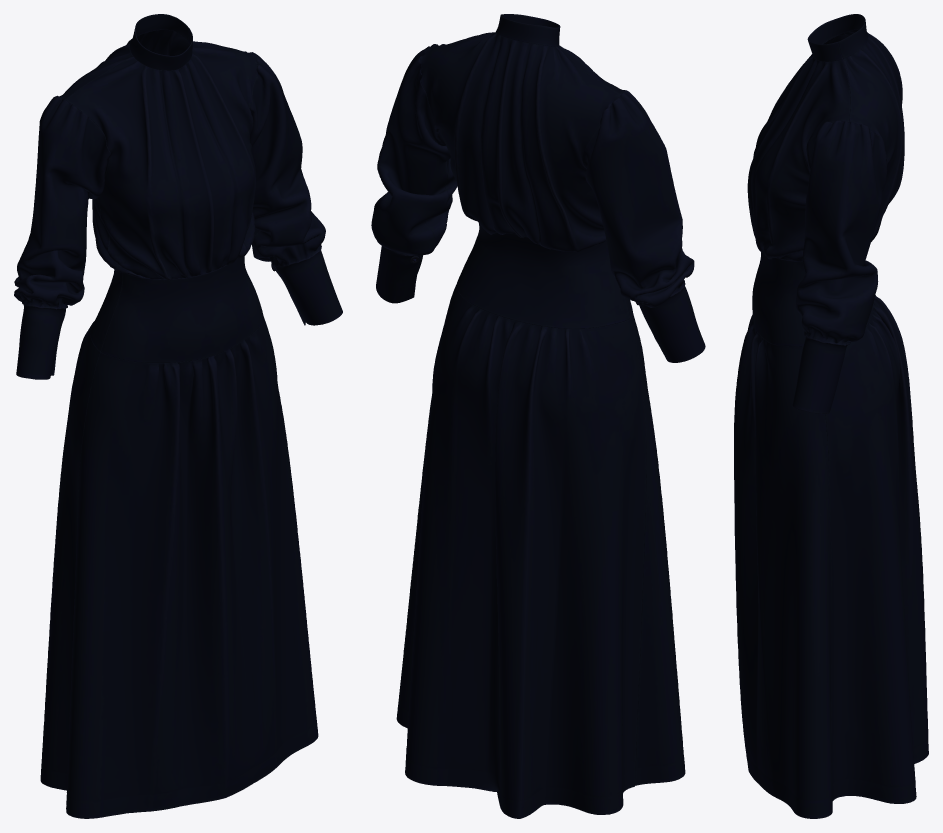
File: dress.glb
The picture shows the model from 3 angles, left to right: view 1: azimuth 30°, elevation 25°; view 2: azimuth 150°, elevation 25°; view 3: azimuth 270°, elevation 25°; orthographic projection. The views are drawn at different scales.
Parts seen in each view (by area): view 1: BTM_001_front, FO_001, AC_001_Belt, SL_001_Right, BTM_001_Back, SL_001_Left, AC_001_Cuff_Left, AC_001_Cuff_Right, BO_001, AC_001_Collar; view 2: BTM_001_Back, BO_001, SL_001_Right, BTM_001_front, AC_001_Belt, SL_001_Left, AC_001_Cuff_Right, AC_001_Cuff_Left, AC_001_Collar, FO_001; view 3: BTM_001_Back, BTM_001_front, SL_001_Left, FO_001, BO_001, AC_001_Belt, AC_001_Cuff_Left, AC_001_Collar.
Part boxes in pixels (bbox=[...]): BTM_001_front: bbox=[66, 316, 318, 818]; FO_001: bbox=[65, 41, 257, 280]; AC_001_Belt: bbox=[90, 256, 263, 362]; SL_001_Right: bbox=[14, 95, 110, 309]; BTM_001_Back: bbox=[40, 321, 100, 790]; SL_001_Left: bbox=[245, 51, 325, 266]; AC_001_Cuff_Left: bbox=[273, 250, 342, 325]; AC_001_Cuff_Right: bbox=[16, 305, 65, 379]; BO_001: bbox=[58, 29, 251, 270]; AC_001_Collar: bbox=[129, 14, 192, 70]; BTM_001_Back: bbox=[405, 284, 646, 818]; BO_001: bbox=[420, 32, 621, 252]; SL_001_Right: bbox=[582, 90, 694, 307]; BTM_001_front: bbox=[396, 313, 685, 785]; AC_001_Belt: bbox=[456, 223, 632, 328]; SL_001_Left: bbox=[371, 44, 457, 256]; AC_001_Cuff_Right: bbox=[638, 286, 705, 362]; AC_001_Cuff_Left: bbox=[376, 246, 423, 303]; AC_001_Collar: bbox=[495, 14, 560, 46]; FO_001: bbox=[429, 32, 625, 93]; BTM_001_Back: bbox=[825, 295, 928, 803]; BTM_001_front: bbox=[734, 314, 832, 818]; SL_001_Left: bbox=[795, 120, 887, 345]; FO_001: bbox=[747, 33, 850, 261]; BO_001: bbox=[843, 29, 904, 241]; AC_001_Belt: bbox=[752, 252, 873, 346]; AC_001_Cuff_Left: bbox=[792, 337, 847, 413]; AC_001_Collar: bbox=[807, 14, 867, 61].
Size of the model in its own units: 0.6086 by 1.36 by 0.3221.
Materials: 1 (1 with a texture image).
